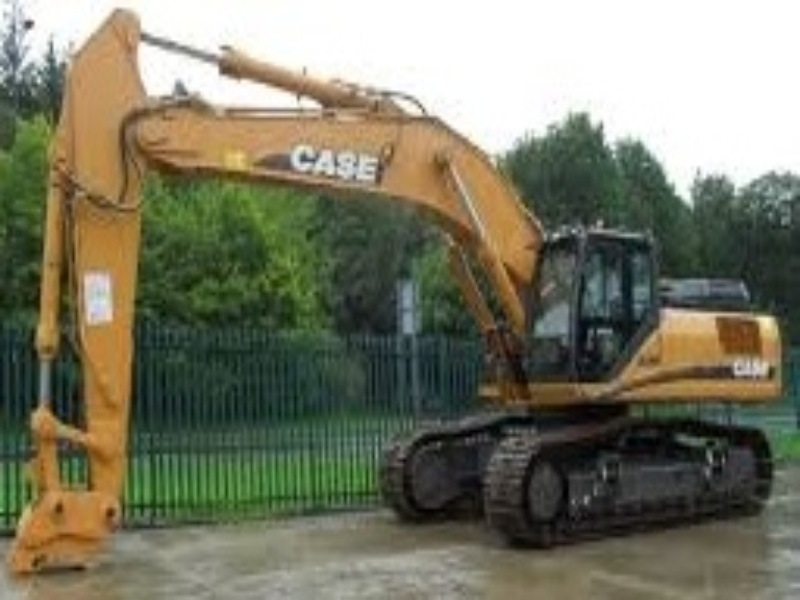wajueji: (359, 173, 800, 572)
